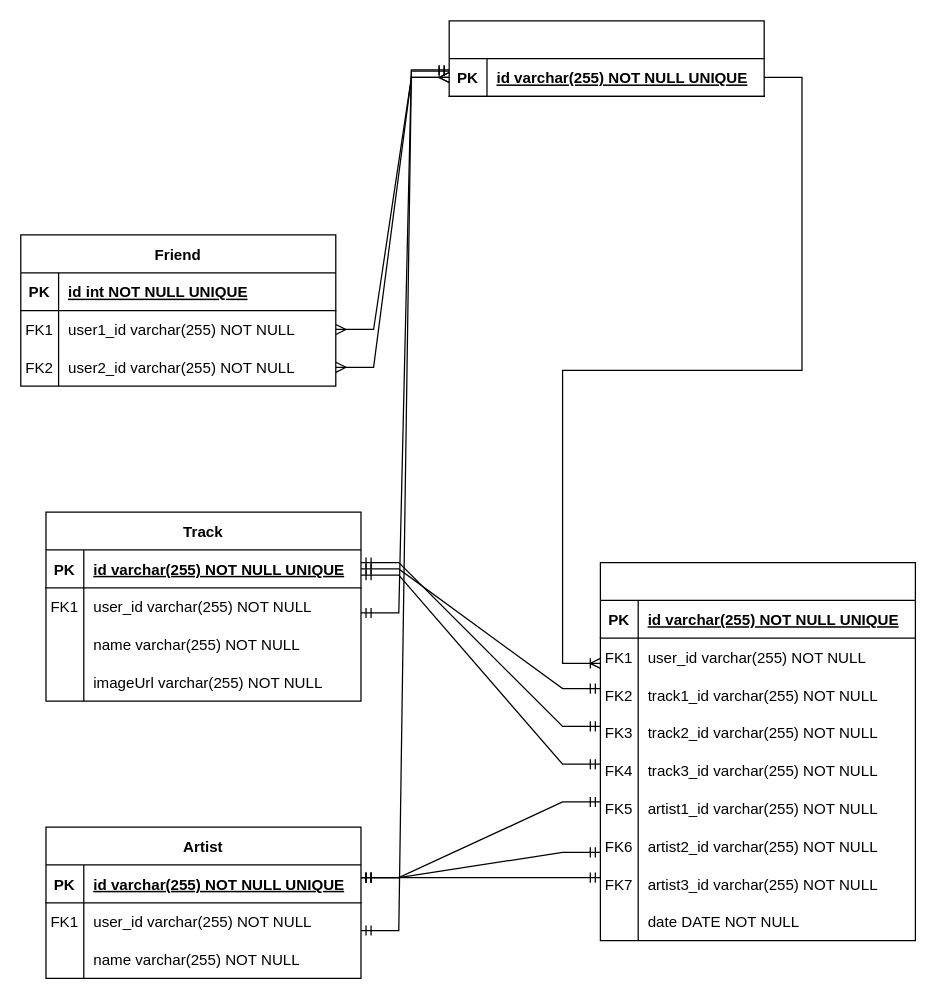
The diagram is 936 pixels wide and 999 high, and some of its shapes have lost their labels. Here are the shapes that lost their labels. From the top down, the box of each, then its label:
(448, 20, 764, 96): USER
(599, 561, 915, 941): History
